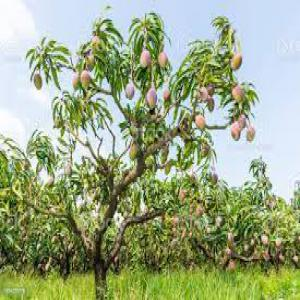Tree: (23, 3, 258, 295)
